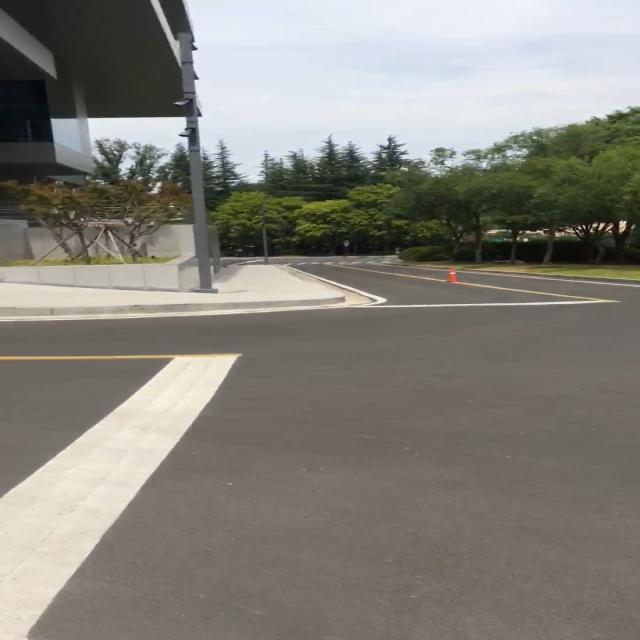obstacle: (176, 28, 222, 292), (443, 262, 458, 283)
road: (0, 264, 640, 640)
sidewalk: (1, 262, 345, 322)
